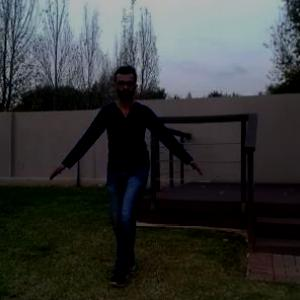land: (66, 65, 189, 278)
